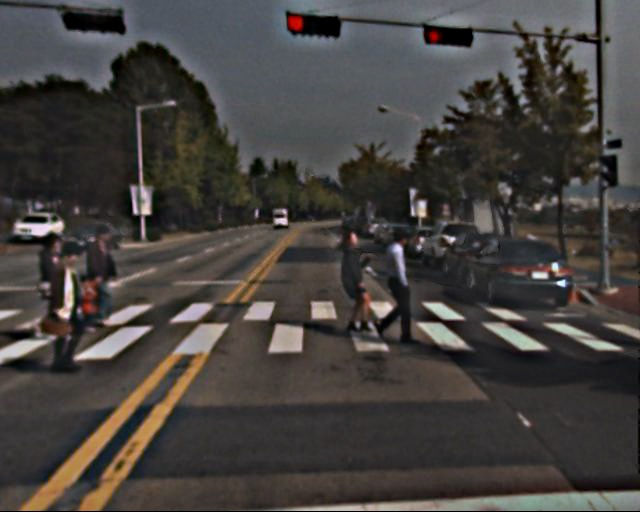person: (44, 243, 98, 375), (376, 228, 424, 345), (333, 227, 378, 337), (33, 231, 78, 340), (80, 225, 122, 328)
